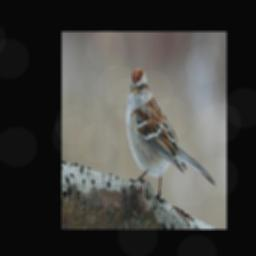Sparrow: (127, 66, 217, 203)
